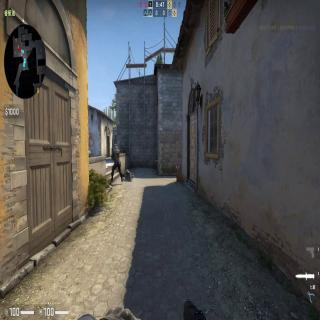CT-Body: (111, 144, 123, 182)
CT-Head: (114, 144, 118, 148)
